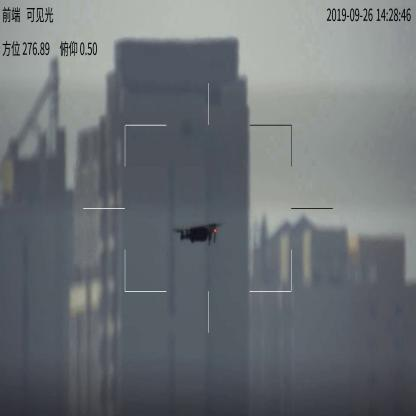uav: (170, 221, 219, 245)
